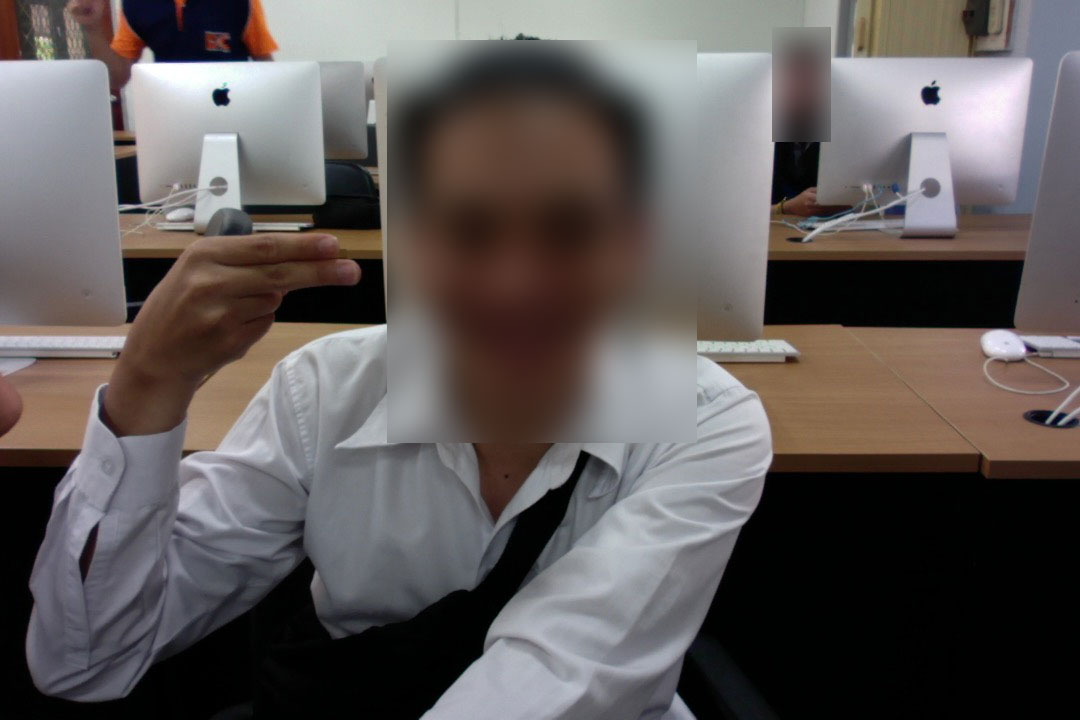hor: (114, 230, 368, 379)
